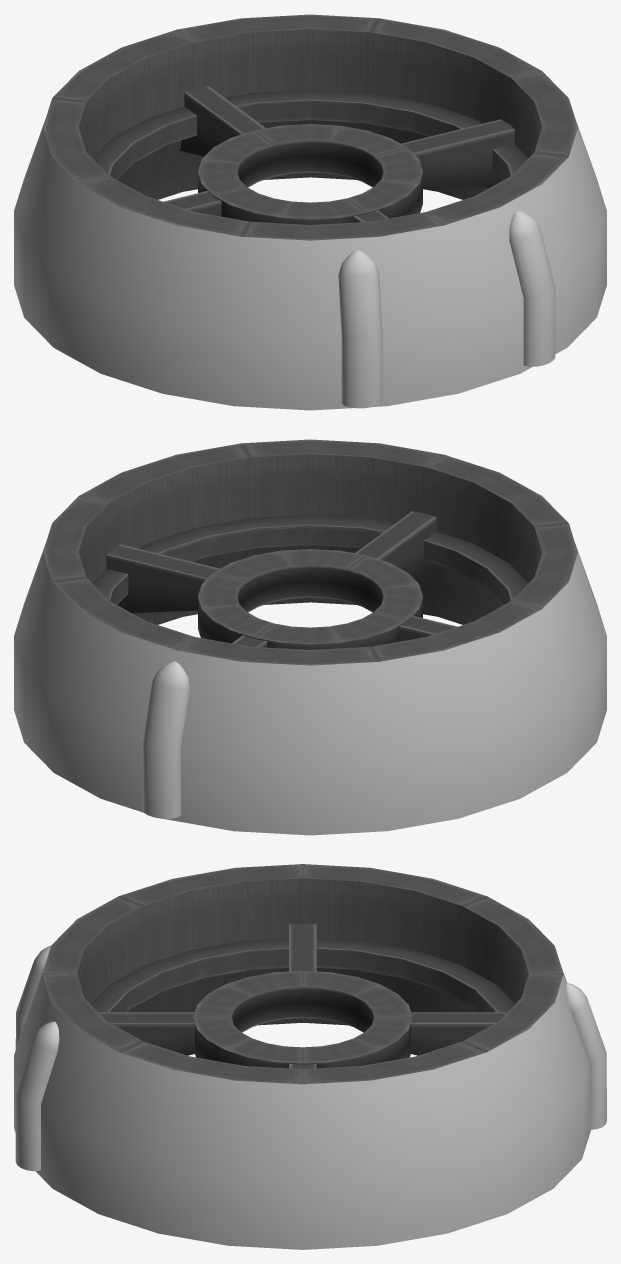
The model's file is Titan2_FairingBase.dae.
3 views of the same model, one above another, from view 1: azimuth 30°, elevation 25°; view 2: azimuth 150°, elevation 25°; view 3: azimuth 270°, elevation 25° (orthographic). The views are drawn at different scales.
Visible parts, largest first — view 1: TitanII_FairingBase_FairingRib2, TitanII_FairingBase1_TitanEnginePlate2_polySurface39; view 2: TitanII_FairingBase_FairingRib2, TitanII_FairingBase1_TitanEnginePlate2_polySurface39; view 3: TitanII_FairingBase_FairingRib2, TitanII_FairingBase1_TitanEnginePlate2_polySurface39.
Part boxes in pixels (left/top/right/bottom): TitanII_FairingBase_FairingRib2: left=14, top=119, right=606, bottom=410; TitanII_FairingBase1_TitanEnginePlate2_polySurface39: left=43, top=14, right=577, bottom=240; TitanII_FairingBase_FairingRib2: left=14, top=544, right=606, bottom=835; TitanII_FairingBase1_TitanEnginePlate2_polySurface39: left=43, top=439, right=577, bottom=665; TitanII_FairingBase_FairingRib2: left=14, top=945, right=606, bottom=1249; TitanII_FairingBase1_TitanEnginePlate2_polySurface39: left=42, top=864, right=563, bottom=1084.
Size of the model in its own units: 1.88 by 0.5531 by 1.93.
